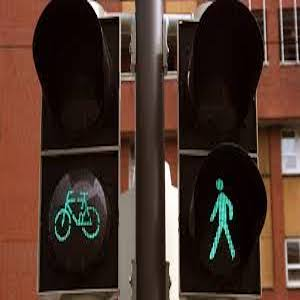green: (45, 179, 115, 245), (200, 178, 235, 257)
